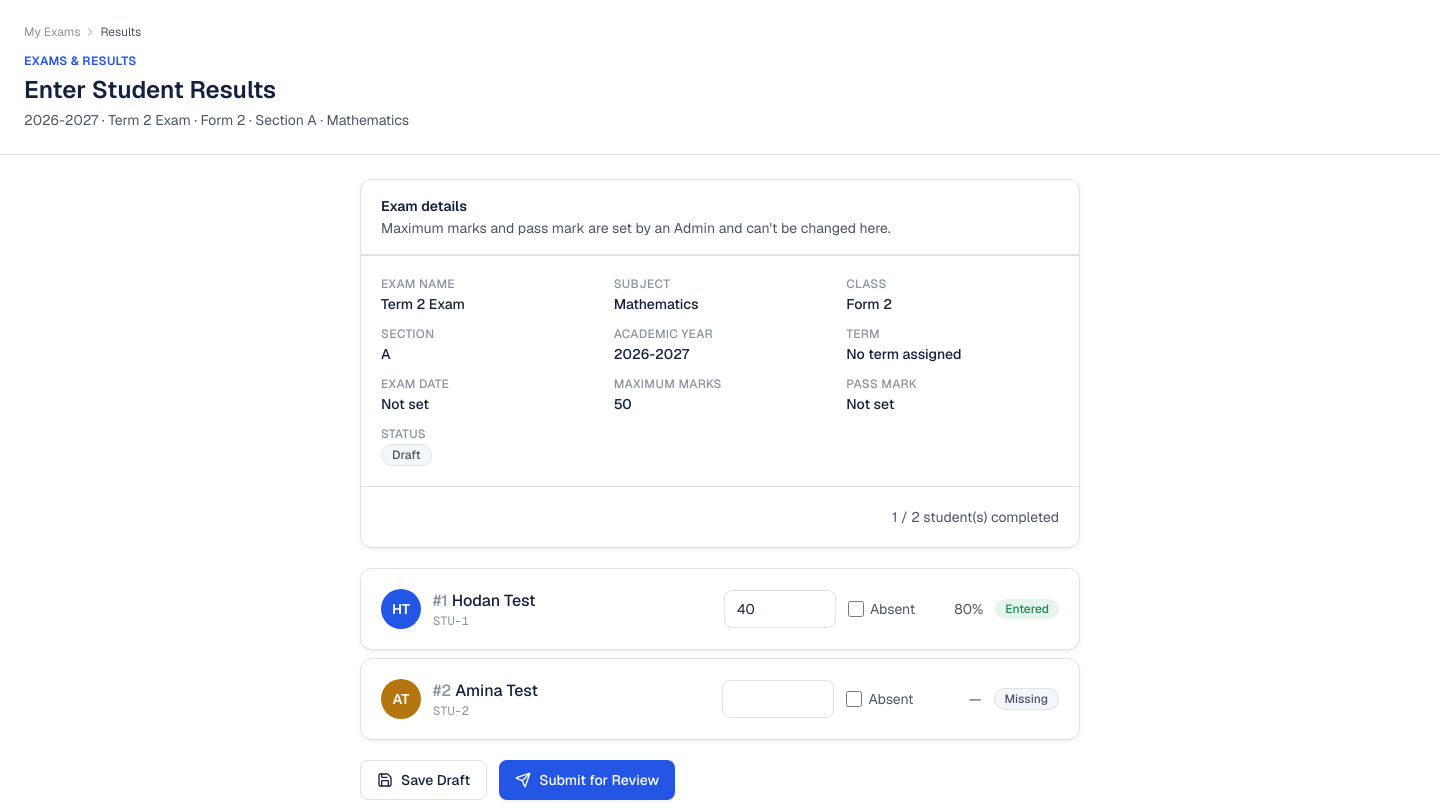
Results page - mark validation is visible and enforced › a mark of 12.345 shows the message under that student's row and blocks Save and Submit
Expected: the text "Term 2 Exam" is shown, [381, 295, 465, 313]
In the number field named "Mark for Amina Test": (778, 699) [722, 680, 834, 718], type "12.345"
(page scrolled)
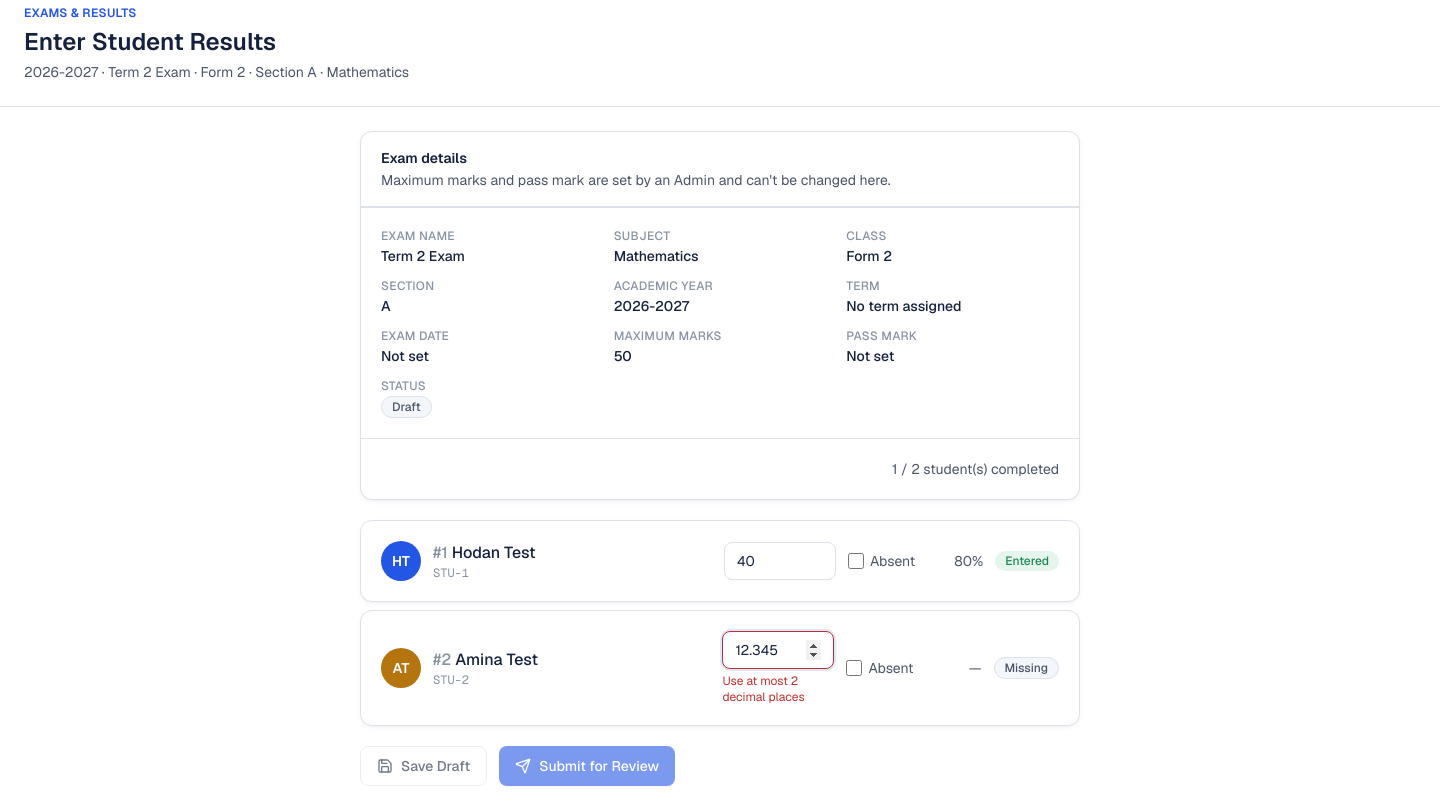
Expected: the message reads "Use at most 2 decimal places", [722, 673, 805, 705]
Expected: the button "Save Draft" is disabled, [360, 746, 487, 786]
Expected: the button "Submit for Review" is disabled, [499, 746, 675, 786]
